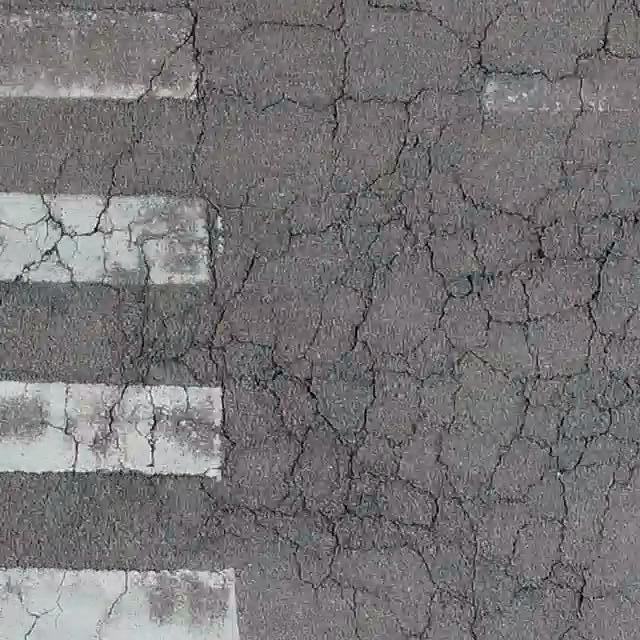PIEL DE COCODRILO: (1, 0, 639, 639)
